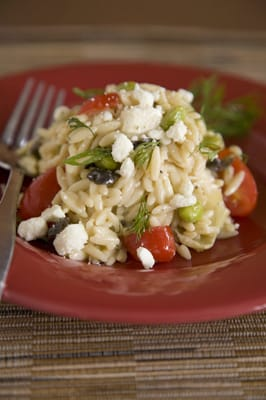burger: (1, 78, 63, 297)
curry: (189, 73, 261, 137)
sushi: (1, 44, 263, 322)
